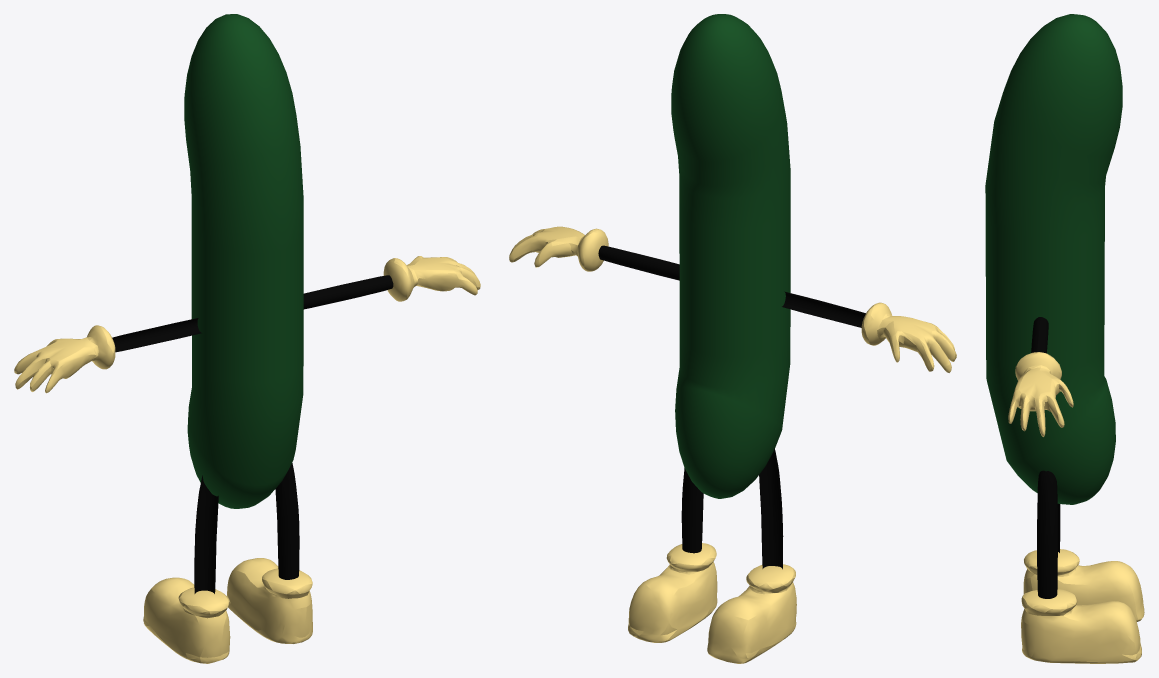
The model's file is pepinoModelIdle.fbx.
The picture shows the model from 3 angles, left to right: view 1: azimuth 30°, elevation 25°; view 2: azimuth 150°, elevation 25°; view 3: azimuth 270°, elevation 25°; orthographic projection.
Visible parts, largest first — view 1: Esfera.002, Cubo.002; view 2: Esfera.002, Cubo.002; view 3: Esfera.002, Cubo.002.
Boxes of the visible parts, x1=… form: Esfera.002: x1=184, y1=14, x2=303, y2=508; Cubo.002: x1=14, y1=256, x2=480, y2=663; Esfera.002: x1=671, y1=14, x2=790, y2=498; Cubo.002: x1=509, y1=226, x2=956, y2=663; Esfera.002: x1=985, y1=14, x2=1122, y2=504; Cubo.002: x1=1008, y1=317, x2=1144, y2=663.
Size of the model in its own units: 1473 by 1927 by 448.
